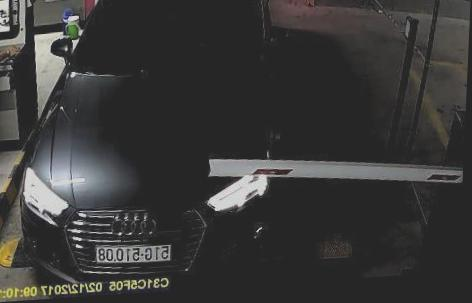License_Plate: (91, 241, 172, 268)
